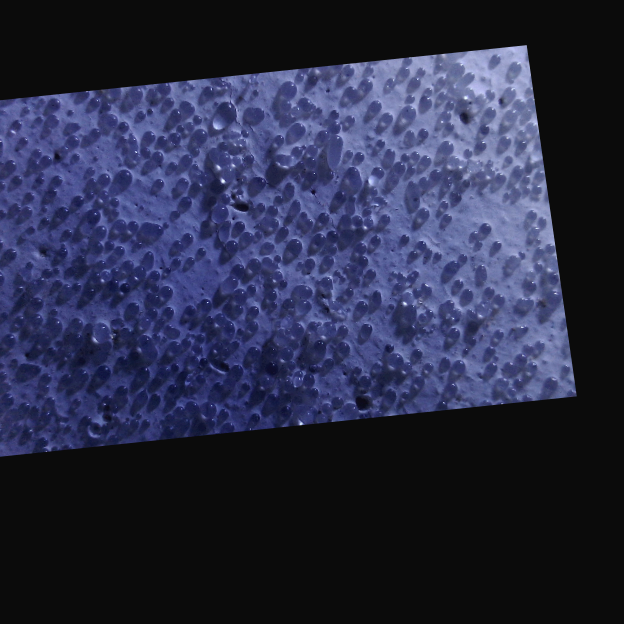GrassBeadSeg: (0, 79, 432, 435), (0, 88, 495, 373), (5, 79, 495, 353), (93, 53, 501, 357), (45, 89, 449, 384), (139, 64, 509, 386), (60, 128, 415, 449), (21, 89, 423, 348), (170, 59, 522, 352), (200, 100, 523, 415), (49, 116, 545, 313), (84, 114, 463, 370), (65, 107, 496, 330), (90, 138, 528, 355), (119, 71, 474, 337), (170, 107, 524, 372), (92, 121, 455, 373), (220, 87, 538, 371), (158, 142, 480, 422), (165, 97, 433, 417), (46, 113, 512, 293), (38, 118, 396, 352), (95, 184, 531, 365), (69, 135, 461, 336), (99, 86, 358, 378), (135, 110, 421, 371), (116, 76, 455, 293), (136, 61, 410, 326), (97, 189, 517, 361), (217, 140, 518, 371), (168, 131, 479, 351), (116, 153, 432, 364), (0, 169, 319, 378), (3, 85, 382, 259), (254, 84, 517, 333), (6, 104, 417, 258), (175, 123, 432, 369), (74, 185, 412, 370), (90, 227, 457, 391), (178, 122, 394, 399), (50, 173, 506, 304), (42, 161, 527, 284), (149, 164, 416, 386), (55, 165, 292, 414), (95, 120, 322, 375), (227, 132, 505, 338), (289, 108, 531, 338), (145, 55, 420, 257), (137, 142, 409, 346), (345, 113, 541, 392), (224, 178, 448, 410), (190, 209, 544, 352), (129, 106, 496, 242), (19, 204, 268, 401), (71, 291, 559, 388), (279, 64, 411, 414), (282, 61, 465, 307), (49, 113, 259, 315), (47, 96, 439, 204), (193, 120, 341, 404), (353, 153, 542, 372), (230, 208, 538, 334), (118, 159, 406, 291), (78, 93, 342, 237), (97, 224, 393, 349), (64, 207, 278, 373), (330, 81, 439, 406), (0, 258, 494, 329), (261, 97, 525, 228), (32, 203, 359, 307), (84, 287, 346, 416), (23, 190, 538, 254), (157, 214, 362, 374), (254, 201, 504, 332), (195, 165, 384, 338), (238, 229, 466, 371), (83, 286, 426, 380), (20, 176, 278, 298), (160, 139, 492, 233), (409, 150, 533, 400), (290, 144, 495, 295), (201, 52, 499, 155), (345, 215, 548, 366), (175, 66, 426, 188), (39, 85, 433, 161), (245, 170, 402, 356), (326, 73, 487, 240), (147, 73, 318, 229), (349, 246, 545, 382), (354, 123, 490, 313), (112, 92, 297, 231), (115, 179, 303, 312), (29, 153, 193, 304), (31, 93, 415, 157), (162, 206, 430, 297), (324, 110, 459, 288), (61, 227, 464, 286), (316, 128, 540, 233), (245, 282, 528, 363), (417, 175, 545, 349), (172, 208, 443, 290), (290, 153, 410, 335), (191, 113, 524, 177), (261, 126, 429, 251), (55, 150, 365, 217), (223, 274, 443, 368), (436, 74, 504, 368), (259, 149, 453, 248), (51, 105, 261, 189), (115, 237, 254, 362), (25, 259, 171, 377), (63, 177, 347, 237), (144, 251, 294, 364), (114, 168, 326, 243), (118, 238, 428, 287), (317, 75, 417, 223), (285, 98, 382, 249), (319, 197, 445, 310), (417, 157, 494, 333), (179, 153, 339, 237), (251, 77, 373, 186), (267, 64, 355, 213), (286, 179, 416, 278), (77, 89, 164, 235), (89, 104, 386, 145), (161, 95, 239, 250), (139, 306, 235, 431), (440, 70, 491, 304), (58, 134, 152, 258), (131, 210, 249, 301), (1, 178, 63, 345), (387, 76, 422, 365), (86, 176, 280, 227), (178, 159, 361, 213), (445, 87, 533, 195), (243, 86, 363, 163), (346, 84, 473, 156), (492, 291, 575, 401), (185, 354, 397, 397), (417, 76, 524, 161), (171, 127, 245, 249), (462, 159, 541, 268), (186, 72, 307, 135), (0, 180, 52, 323), (275, 198, 360, 284), (390, 239, 501, 300), (172, 245, 239, 345), (196, 345, 277, 424), (435, 61, 528, 125), (71, 100, 129, 197), (257, 208, 410, 244), (54, 205, 193, 243), (13, 96, 74, 182), (19, 96, 105, 151), (167, 304, 259, 352), (12, 265, 82, 328), (49, 338, 128, 393), (296, 360, 410, 398), (391, 268, 433, 370), (103, 383, 198, 426), (278, 339, 326, 419), (446, 121, 529, 166), (190, 86, 265, 135), (28, 317, 83, 382), (298, 103, 346, 177), (72, 150, 136, 205), (304, 362, 372, 412), (426, 297, 519, 333), (303, 357, 358, 416), (291, 272, 351, 321), (36, 364, 82, 427), (306, 185, 378, 225), (110, 404, 184, 442), (0, 392, 52, 445), (184, 298, 243, 344), (0, 357, 51, 410), (67, 404, 142, 440), (154, 320, 226, 357), (224, 257, 260, 328), (192, 141, 246, 188), (477, 263, 534, 305), (393, 281, 452, 321), (41, 333, 89, 380), (2, 276, 45, 327), (463, 351, 524, 386), (182, 336, 229, 381), (234, 254, 334, 275), (136, 317, 171, 377), (266, 256, 332, 287), (218, 101, 243, 177), (0, 138, 39, 184), (321, 220, 373, 253), (132, 95, 157, 163), (511, 242, 554, 281), (316, 243, 357, 282), (407, 298, 454, 331), (120, 131, 164, 164), (159, 238, 184, 295), (150, 256, 180, 302), (150, 81, 192, 113), (267, 269, 299, 308), (474, 159, 530, 181), (449, 306, 476, 351), (428, 173, 462, 207), (267, 351, 296, 388), (231, 136, 247, 198), (517, 250, 537, 290), (169, 147, 200, 169), (507, 254, 542, 273), (84, 258, 114, 280), (262, 253, 306, 268), (298, 298, 318, 329), (186, 102, 198, 152), (545, 271, 561, 303), (220, 106, 259, 119), (460, 147, 472, 186), (292, 97, 322, 112), (448, 259, 482, 272), (309, 319, 336, 335), (164, 304, 195, 317), (214, 312, 234, 332), (128, 86, 157, 98), (250, 256, 273, 269), (517, 121, 538, 135), (128, 137, 140, 158), (274, 326, 289, 336), (524, 173, 526, 175)
